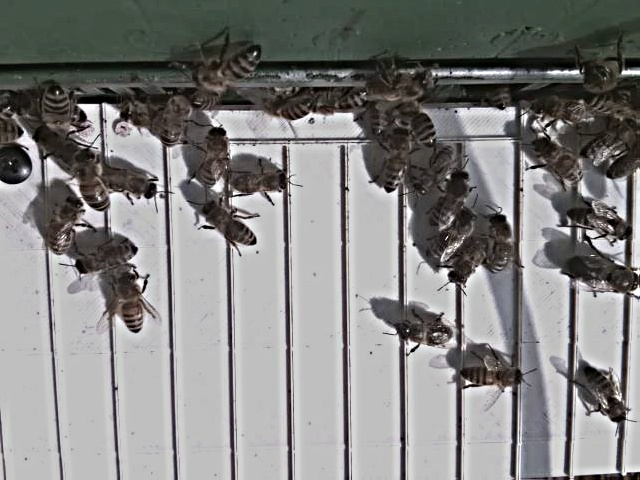Drone: (562, 252, 640, 298)
Worker: (581, 361, 629, 429), (199, 200, 262, 251), (72, 149, 113, 220), (426, 210, 478, 264), (564, 204, 632, 245), (430, 169, 474, 232), (414, 142, 462, 199), (533, 135, 586, 186), (78, 237, 141, 277), (44, 195, 84, 258), (195, 125, 233, 189), (114, 269, 147, 339), (394, 315, 456, 352), (106, 165, 162, 204), (380, 128, 411, 198), (232, 164, 291, 199), (460, 361, 526, 391), (409, 95, 441, 151), (489, 211, 514, 280)
